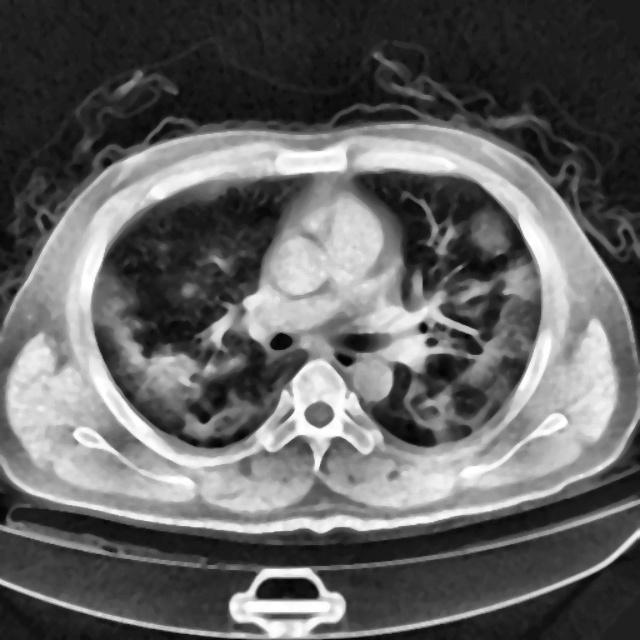covid: (1, 117, 638, 541)
